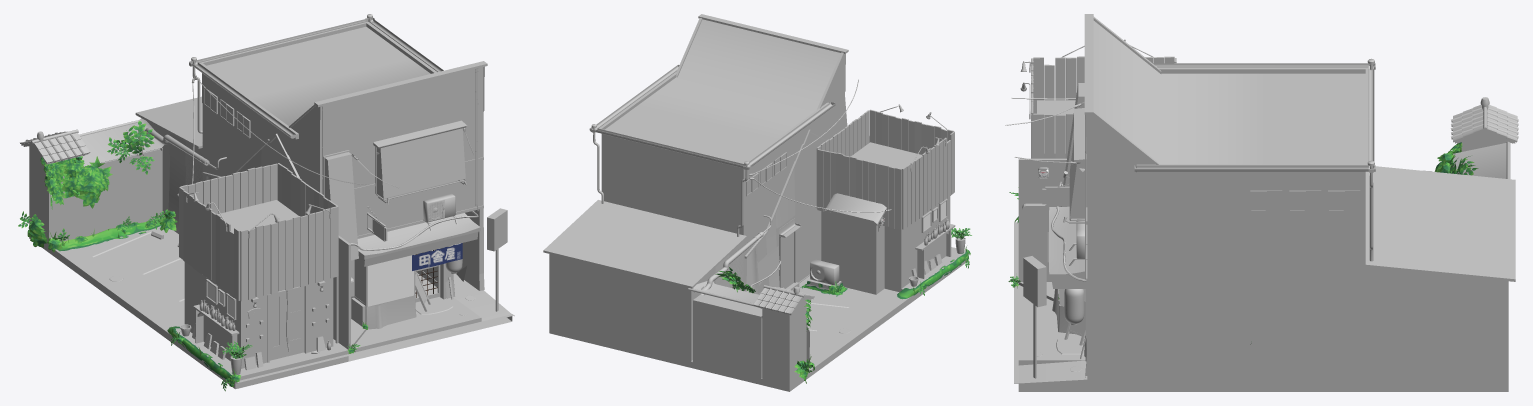
The model's file is Japanese_Building6.fbx.
The picture shows the model from 3 angles, left to right: view 1: azimuth 30°, elevation 25°; view 2: azimuth 150°, elevation 25°; view 3: azimuth 270°, elevation 25°; orthographic projection. The views are drawn at different scales.
Parts seen in each view (by area): view 1: Inakaya; view 2: Inakaya; view 3: Inakaya.
Part boxes in pixels (left/top/right/bottom): Inakaya: left=18, top=14, right=514, bottom=391; Inakaya: left=543, top=14, right=971, bottom=391; Inakaya: left=1005, top=14, right=1518, bottom=391.
Bounding box in the file's own units: 3952 × 2979 × 4797.
